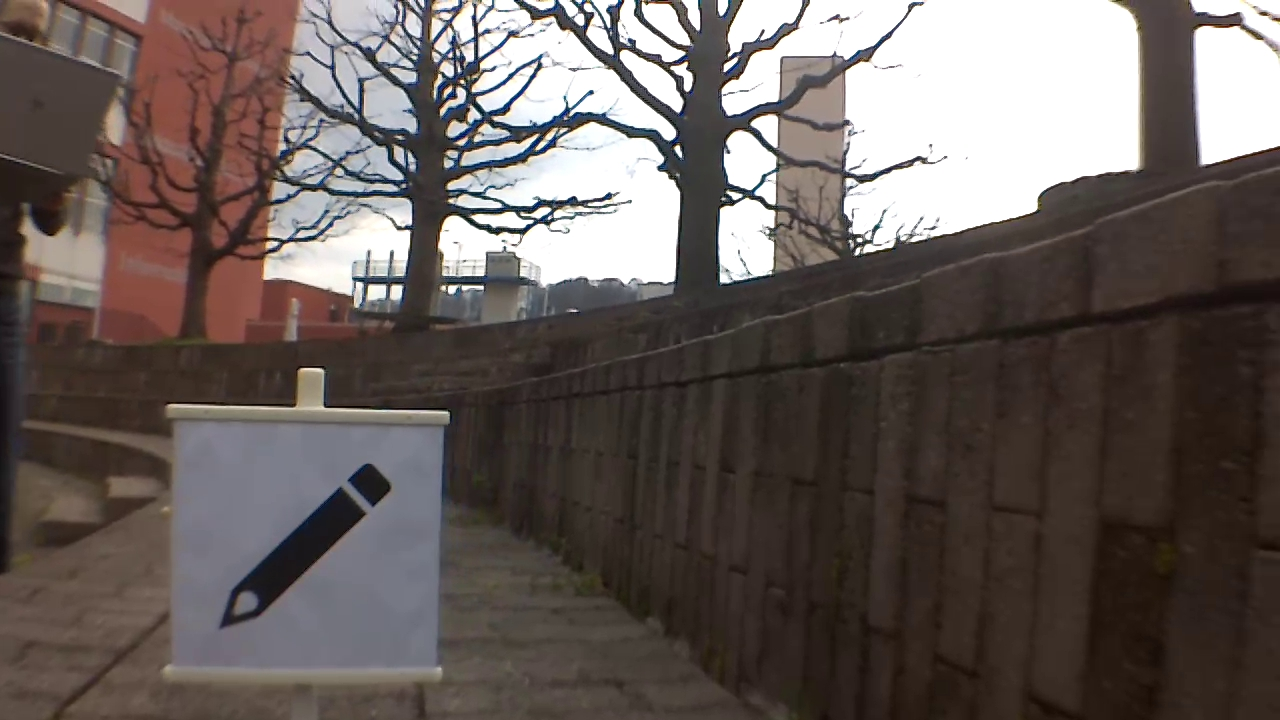pencil: (215, 451, 400, 630)
